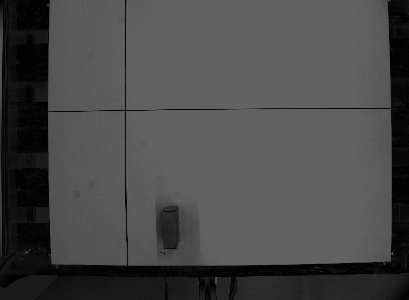b1: (159, 203, 182, 250)
